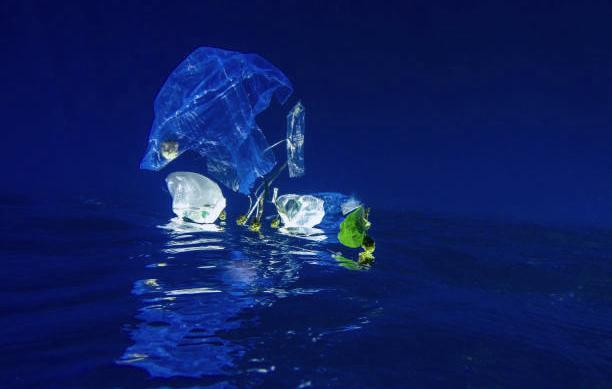Trash: (142, 46, 297, 180), (167, 169, 226, 223), (338, 201, 378, 250), (269, 196, 327, 228)
